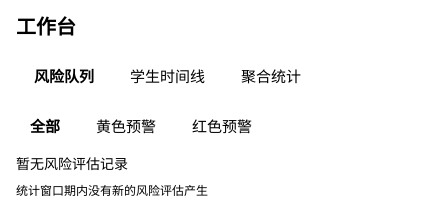
WorkbenchView (咨询员工作台) › 学生时间线视图: 非法 ID (短码) 就地提示, 不发起请求
The image size is (435, 213).
Click the tab "学生时间线". click: (168, 76)
box: [112,57,223,95]
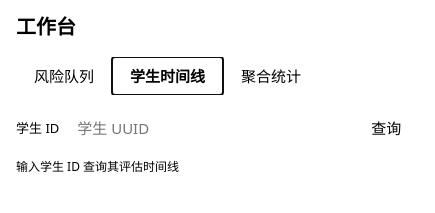
Type "8e4bc2b7" into the field labelled "学生 ID". click: (207, 128)
box: [67,109,347,147]
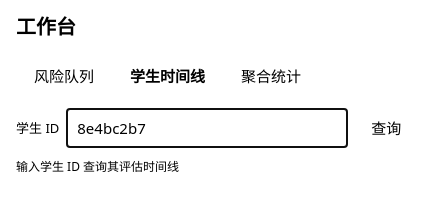
Click the button "查询". click: (386, 128)
box: [355,110,417,146]
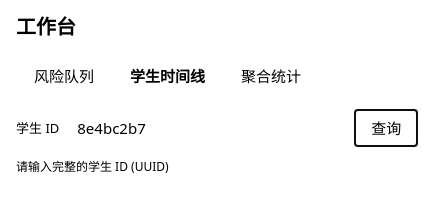
expect the text "请输入完整的学生 ID (UUID)" is shown: met, box [16,158,169,175]
